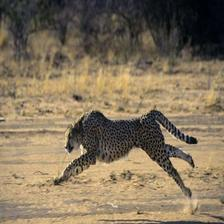Cheetah: (50, 108, 199, 201)
